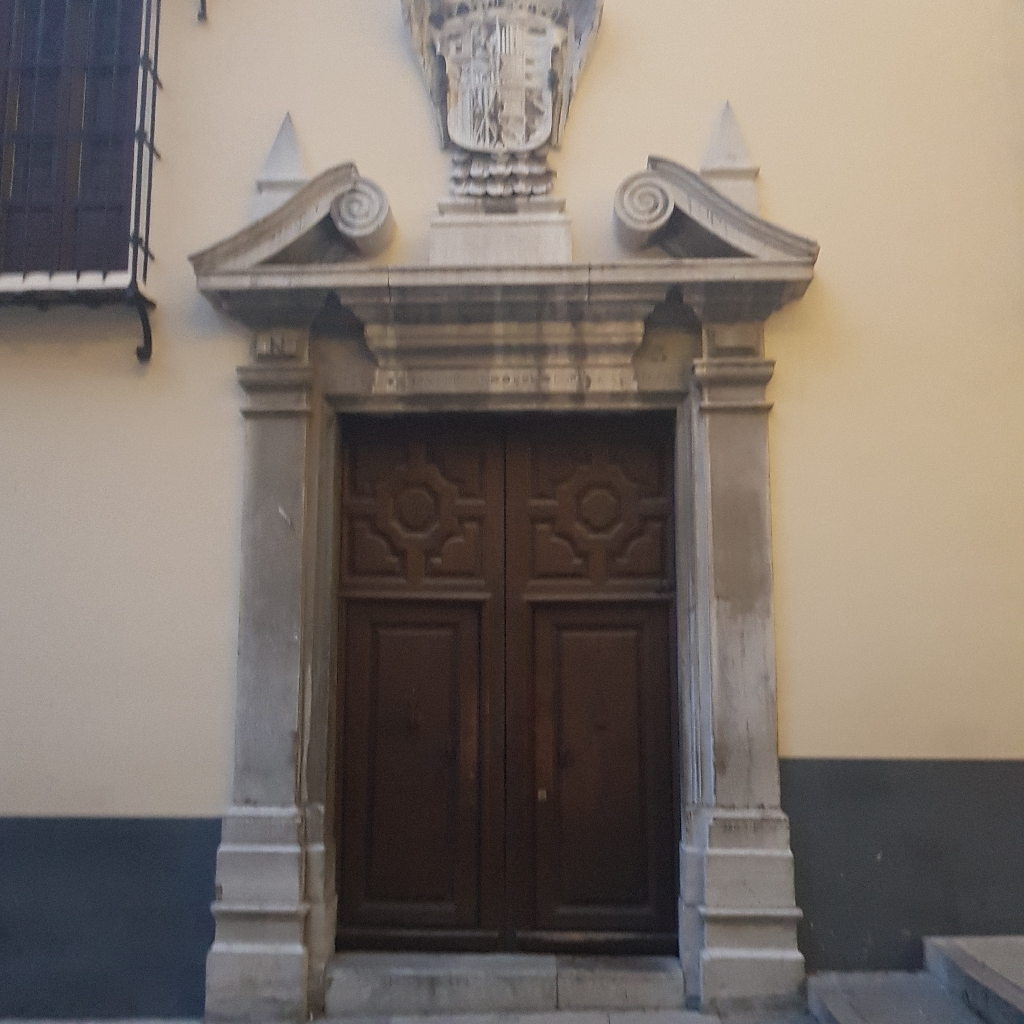fronton-partido: (185, 155, 825, 298)
vano-adintelado: (287, 369, 697, 962)
